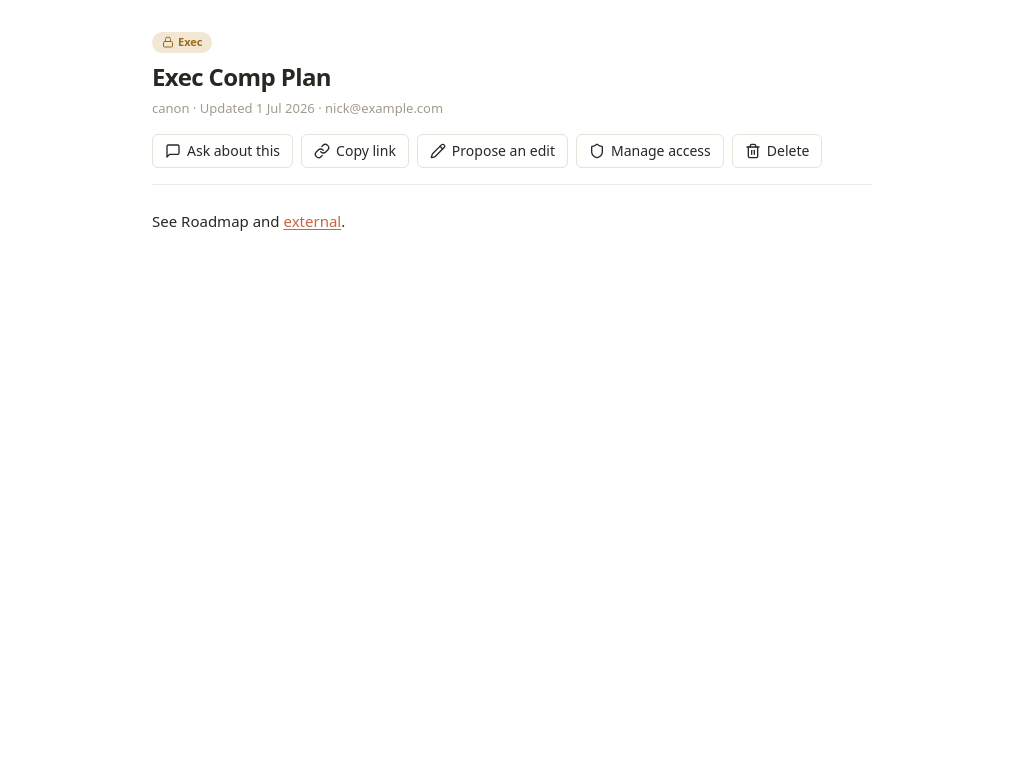
Scenario: DocView actions › reports a refused deletion instead of claiming the note is gone
Click the button "Delete" at point(777, 151), box [732,134,822,168]
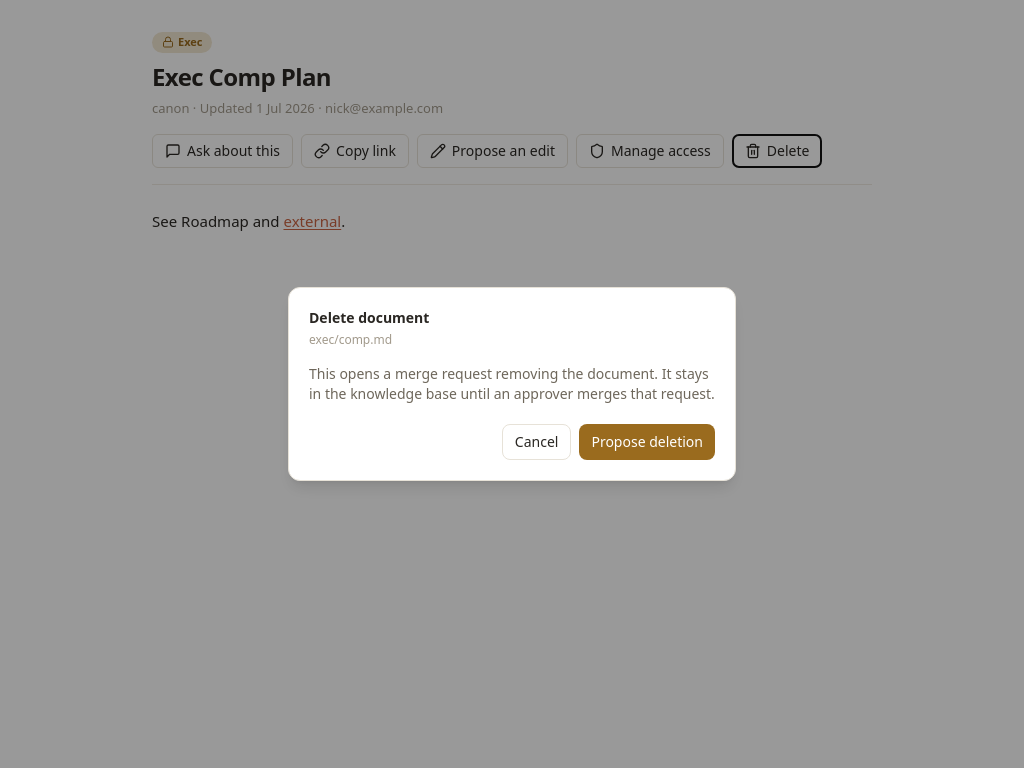
Click the button "Propose deletion" at point(647, 442), box [579,424,715,460]
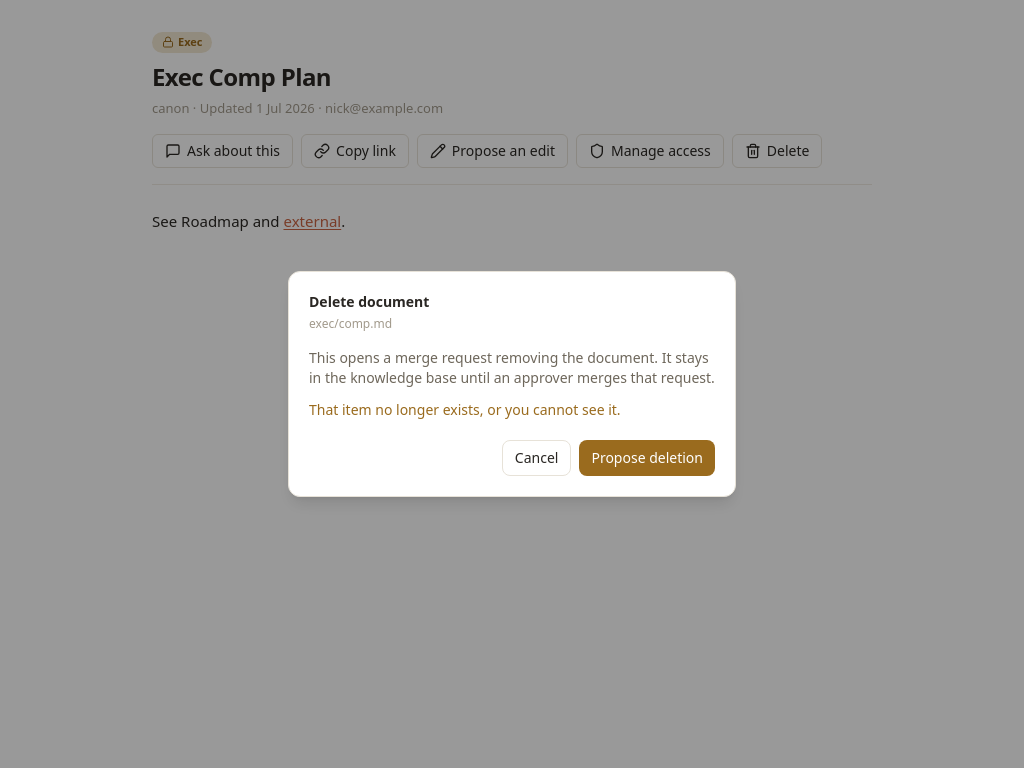
Now the message "That item no longer exists, or you cannot see it." is shown, box [309,400,621,419]
